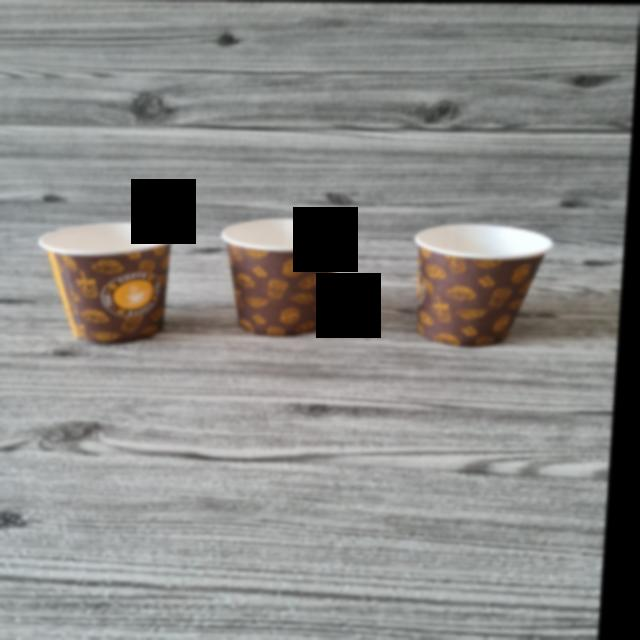cups: (33, 222, 183, 346), (414, 223, 559, 347), (218, 216, 362, 336)
